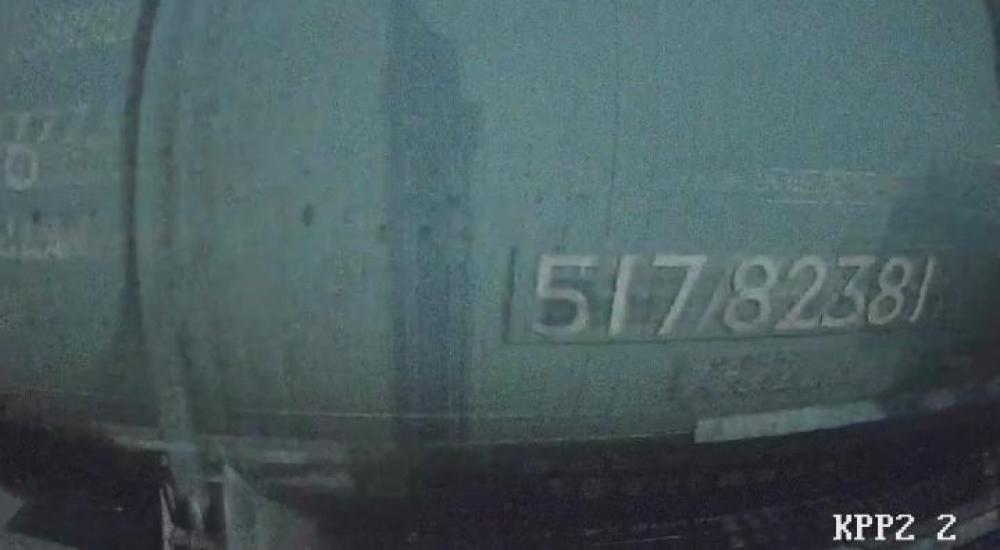Wagon-number: (514, 246, 945, 343)
